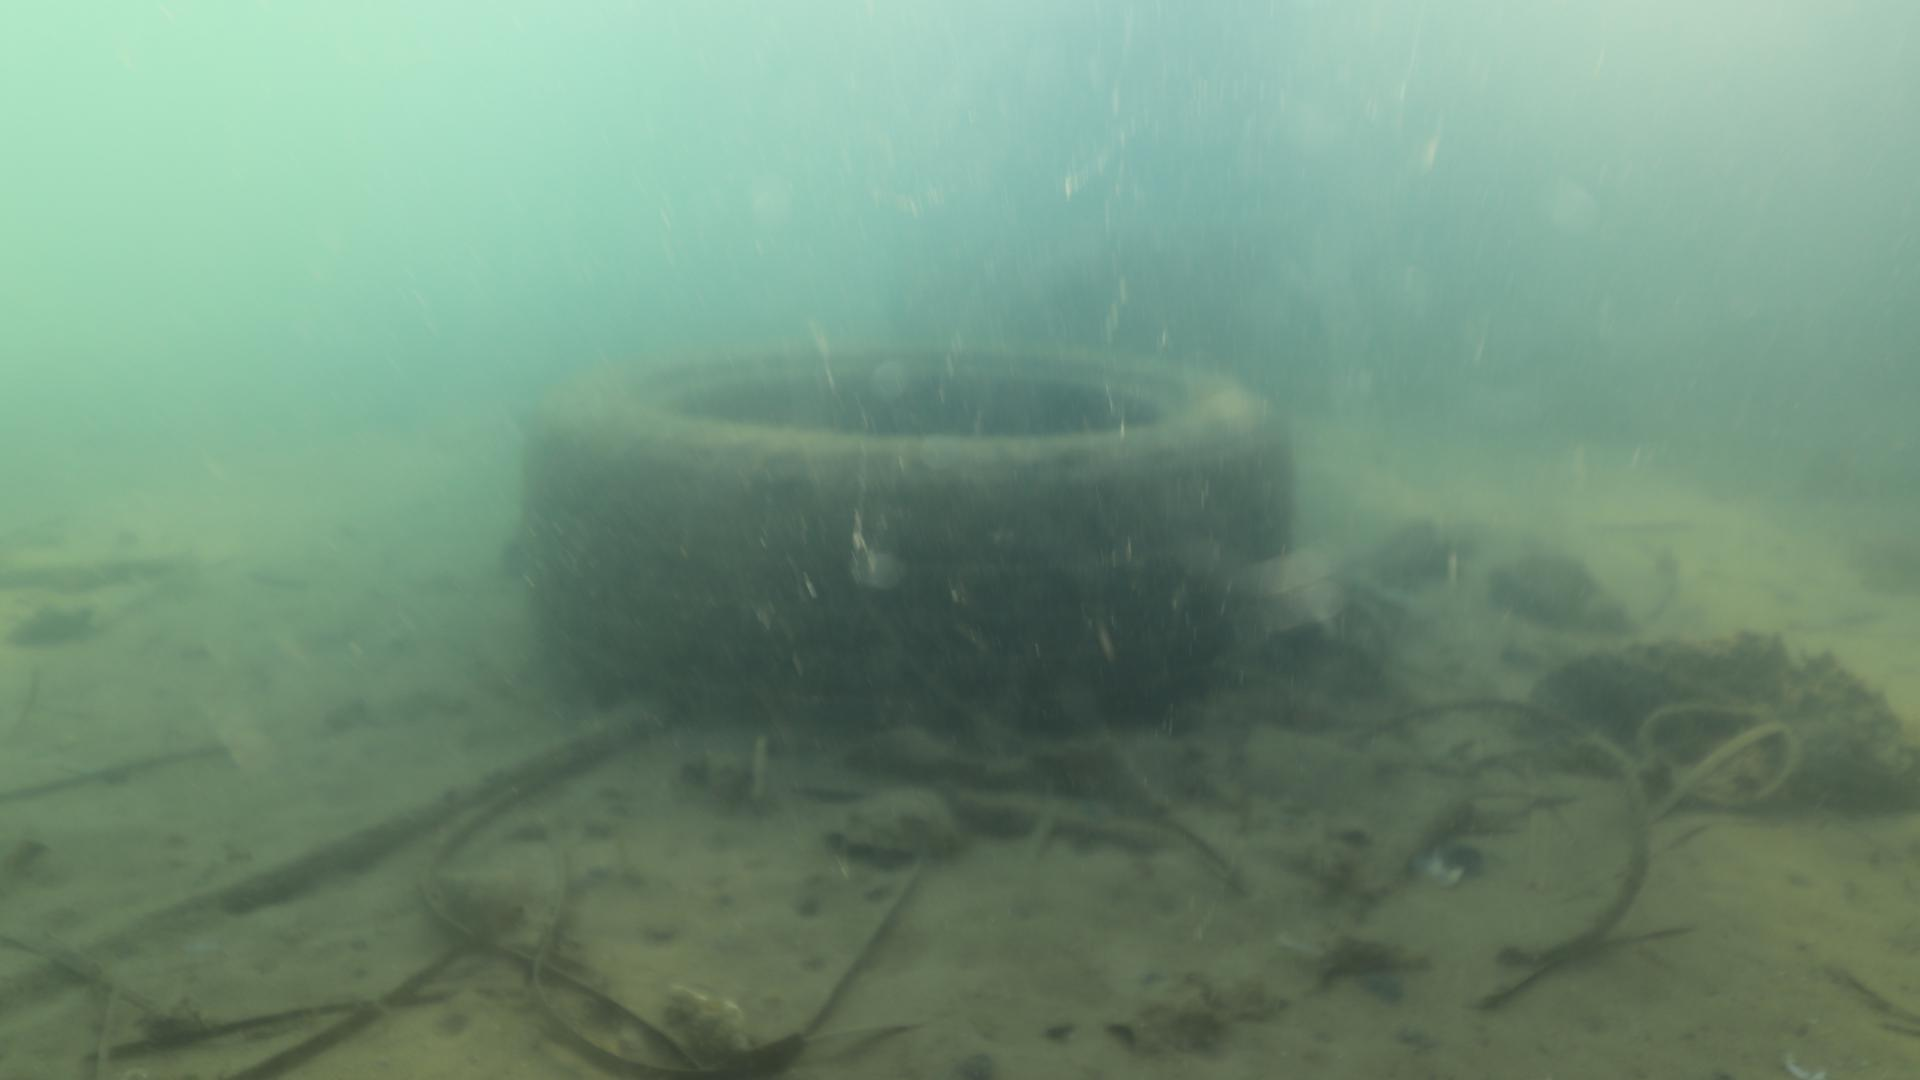tire: (518, 330, 1296, 724)
